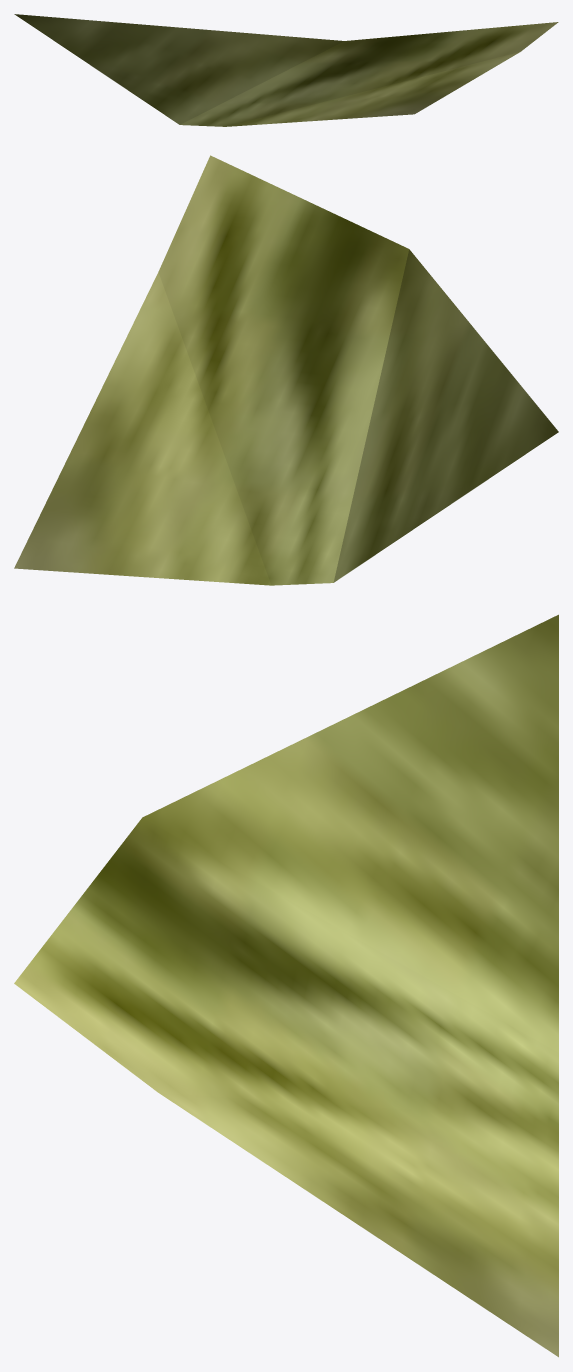
The picture shows the model from 3 angles, top to bottom: view 1: azimuth 30°, elevation 25°; view 2: azimuth 150°, elevation 25°; view 3: azimuth 270°, elevation 25°; orthographic projection. The views are drawn at different scales.
Size of the model in its own units: 0.6169 by 0.2915 by 0.385.
1 material, 1 textured.
